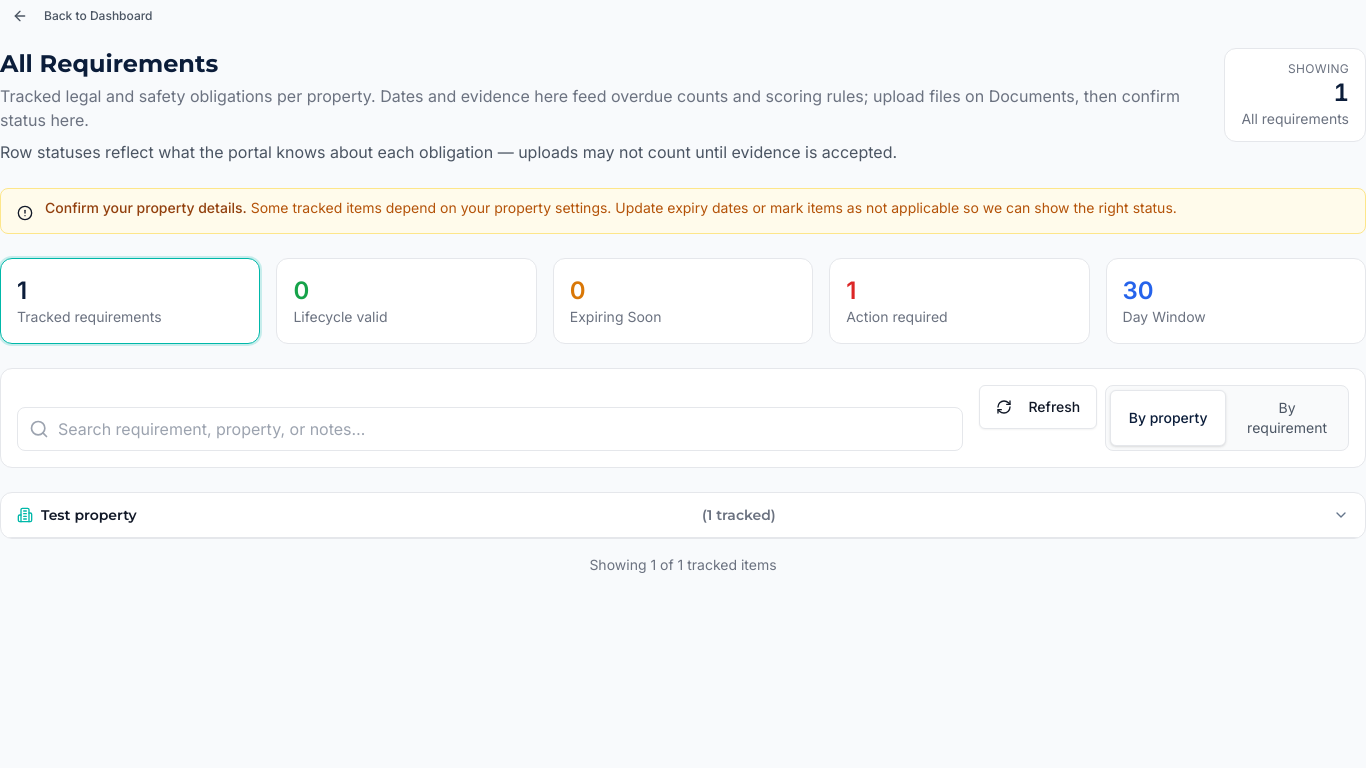
Test: RequirementsPage guided evidence modal › shows one guided CTA and opens modal with allowed evidence methods
Expected: the 1st text "1" is shown, [1334,78,1349,107]
What coordinates should you click on to do the following:
click the button "Test property (1 tracked)"
I would click on:
 (89, 515)
Its box is [1,493,1365,537].
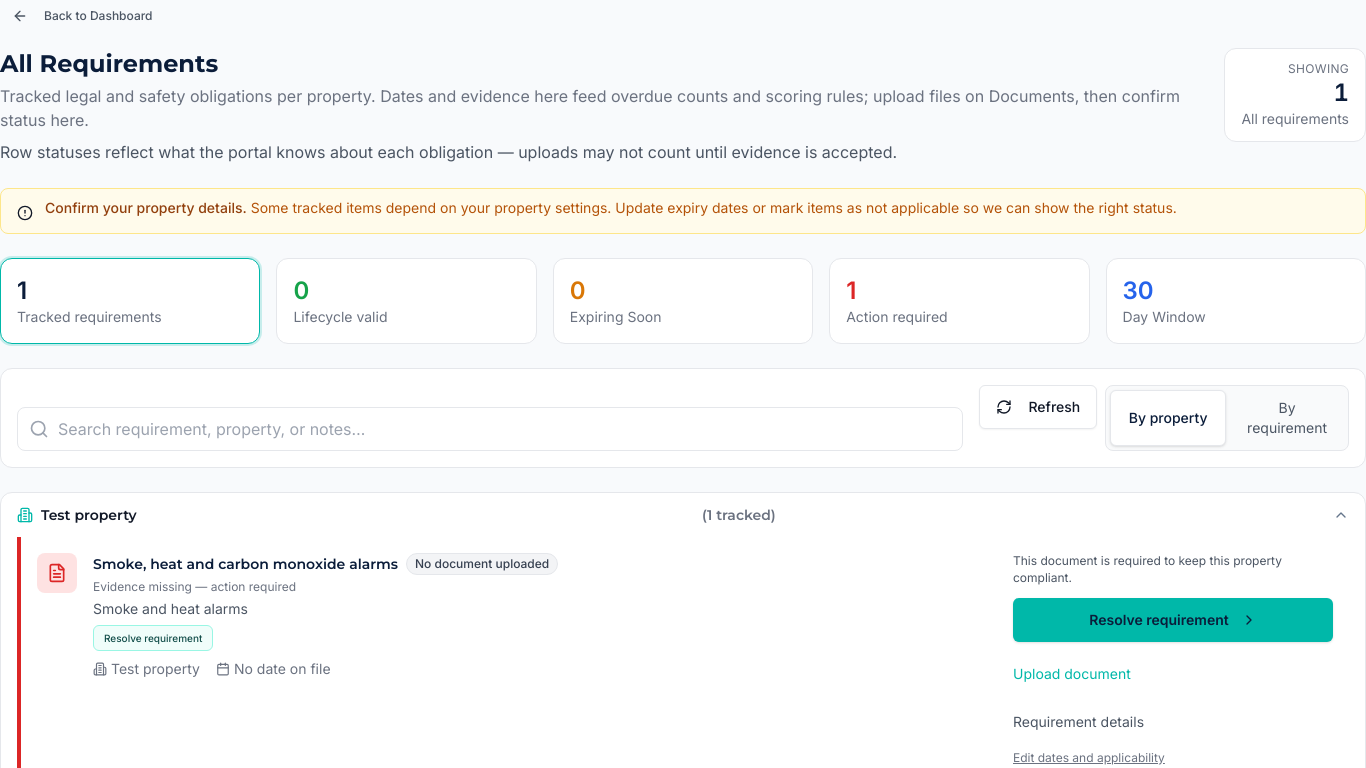
Now the button with test id "requirements-guided-open-req-guided-1" reads "Resolve requirement"
What coordinates should you click on to do the following:
click the button with test id "requirements-guided-open-req-guided-1"
I would click on:
 (1173, 620)
Its box is [1013,598,1333,642].
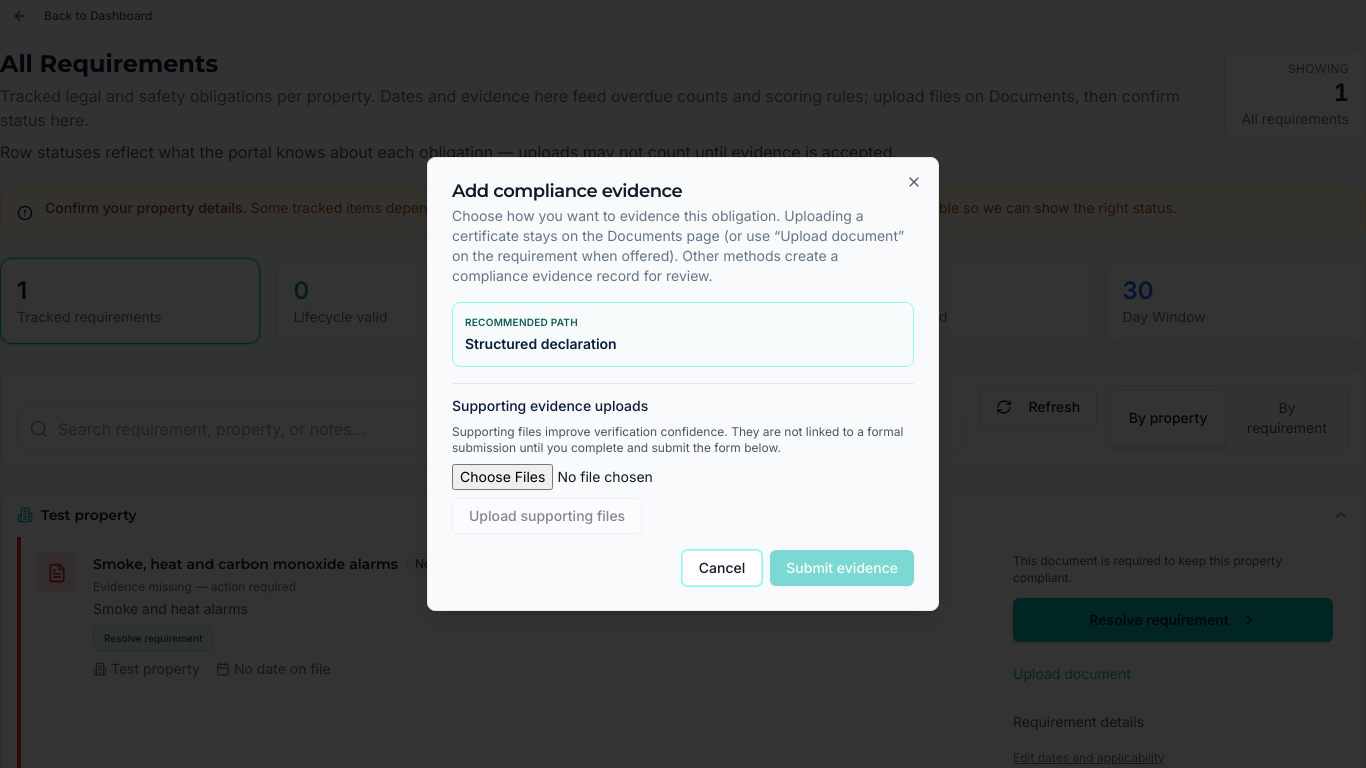
Now the dialog with test id "compliance-evidence-resolve-modal" is shown, box [427,157,939,611]
Now the button with test id "guided-evidence-mode-STRUCTURED_DECLARATION" is shown
What coordinates should you click on to do the following:
click the button with test id "guided-evidence-mode-STRUCTURED_DECLARATION"
I would click on:
 (521, 322)
Its box is [452,302,914,367].
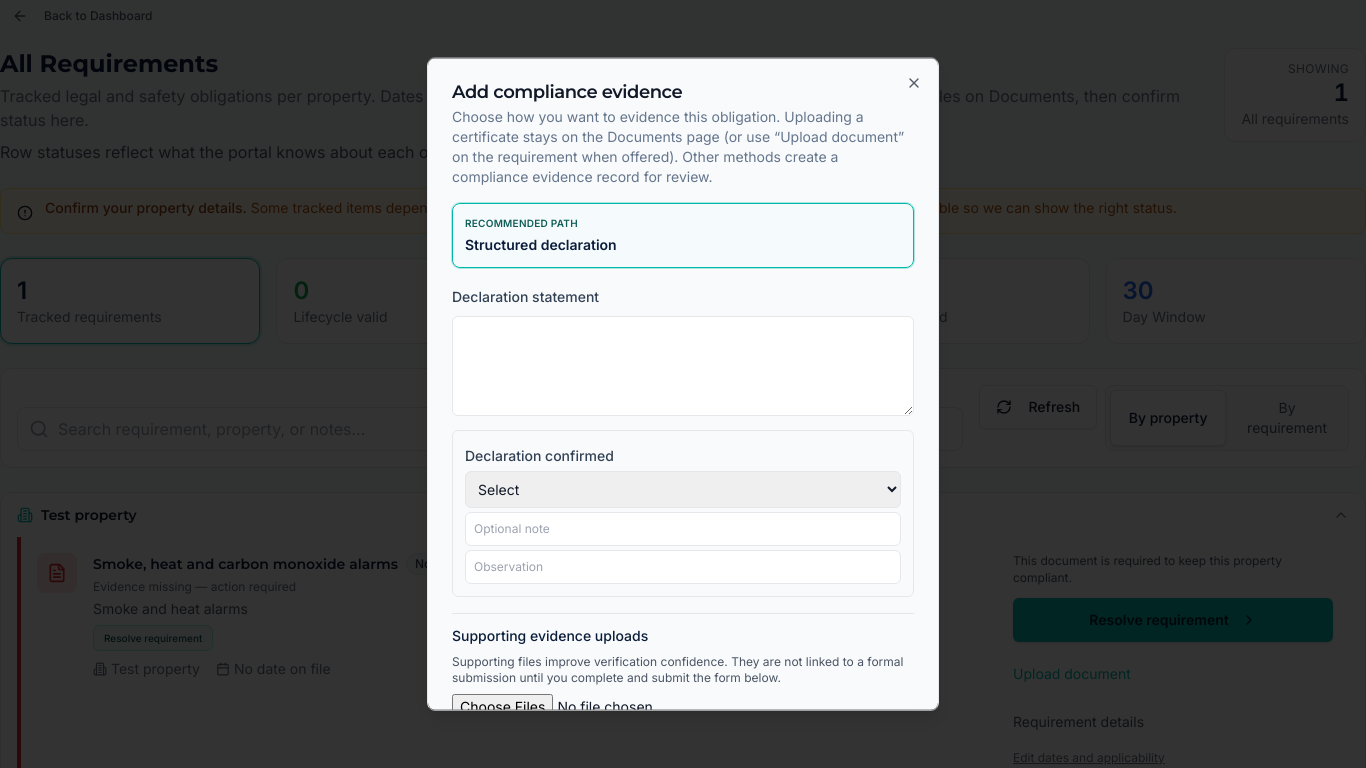
Now the text "Supporting evidence uploads" is shown, box [452,627,648,644]
Now the text "Declaration confirmed" is shown, box [465,447,614,464]
